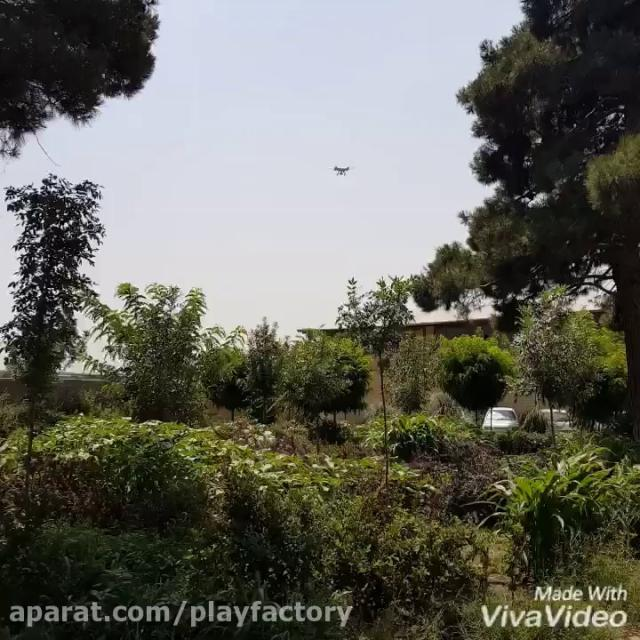drone: (326, 158, 356, 180)
